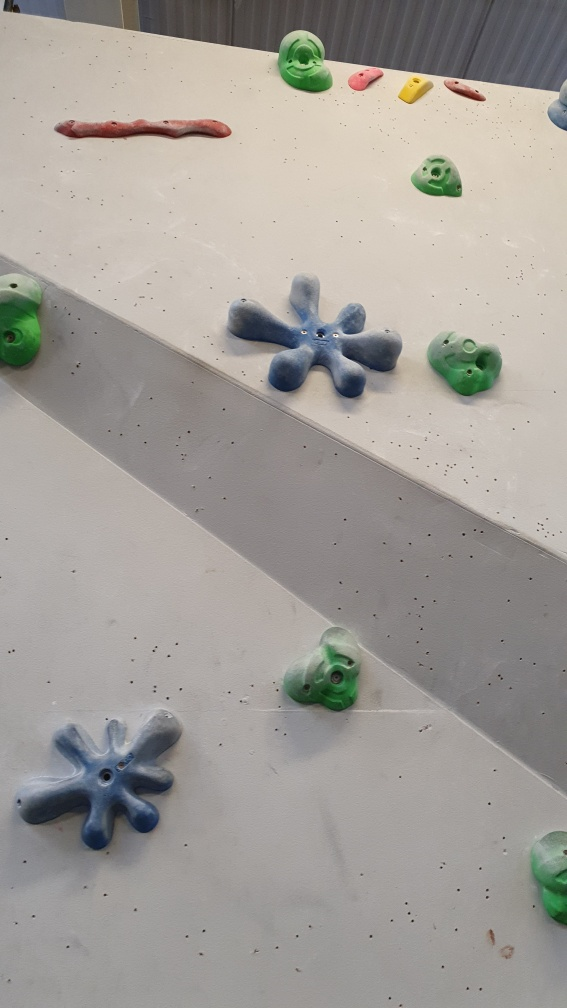Jug: (278, 618, 370, 716), (423, 322, 506, 400), (271, 24, 335, 98), (410, 151, 465, 201)
Octopus Pinch: (14, 703, 185, 851), (230, 270, 402, 400)
